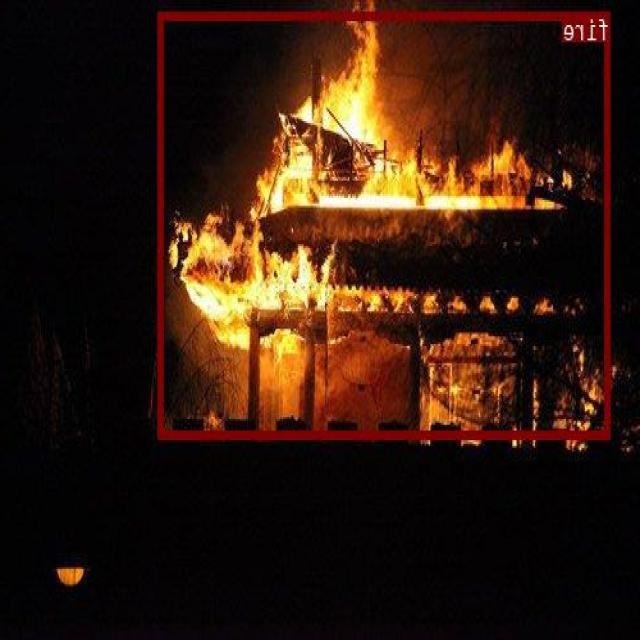fire: (159, 10, 612, 438)
